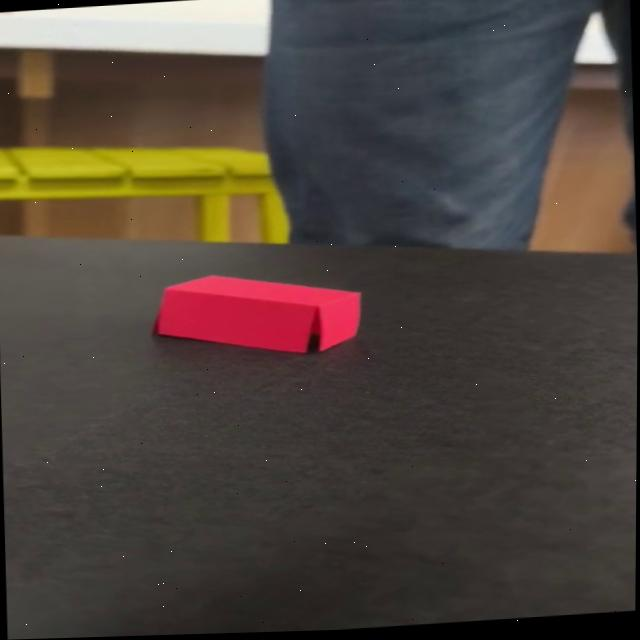red block: (151, 263, 365, 362)
